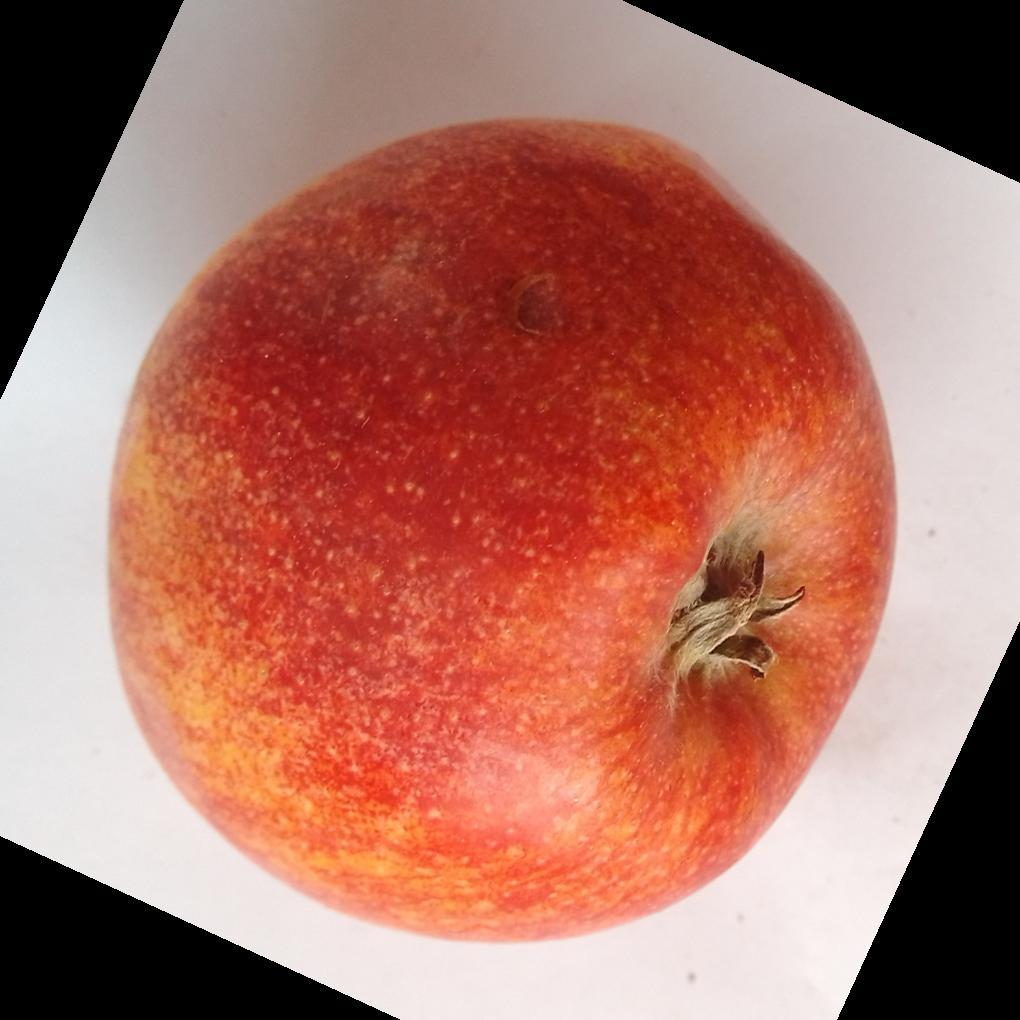FreshGuava: (102, 118, 900, 948)
